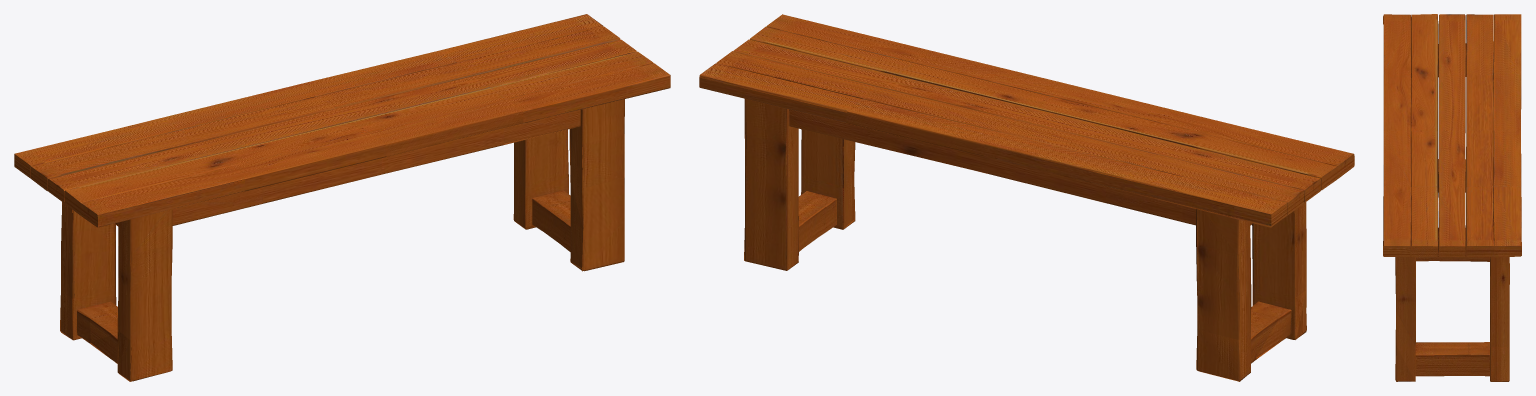
Rendered from bench.glb.
3 views of the same model, side by side, from view 1: azimuth 30°, elevation 25°; view 2: azimuth 150°, elevation 25°; view 3: azimuth 270°, elevation 25° (orthographic). The views are drawn at different scales.
Size of the model in its own units: 1.5 by 0.46 by 0.38.
1 material, 1 textured.
